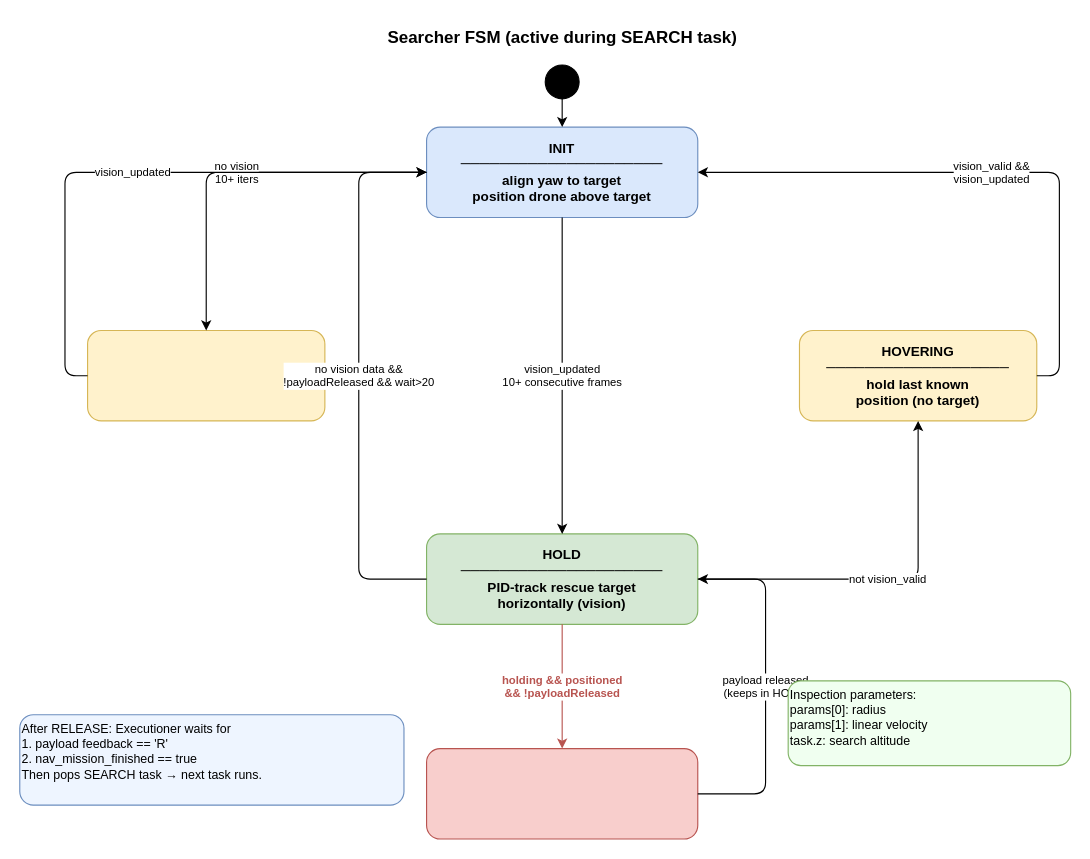
Image size: 1090x859. Some labels were removed from this diagram. The shapes that lost their labels are listed below. From the top down, each one's box as (x1, y1, x2, y2) in pixels, then its label:
(86, 329, 325, 421): INSPE ─────────────────── fly circular search for rescue target
(425, 747, 698, 839): RELEASE ✓ ───────────────────── publish release_payload wait for feedback 'R'
